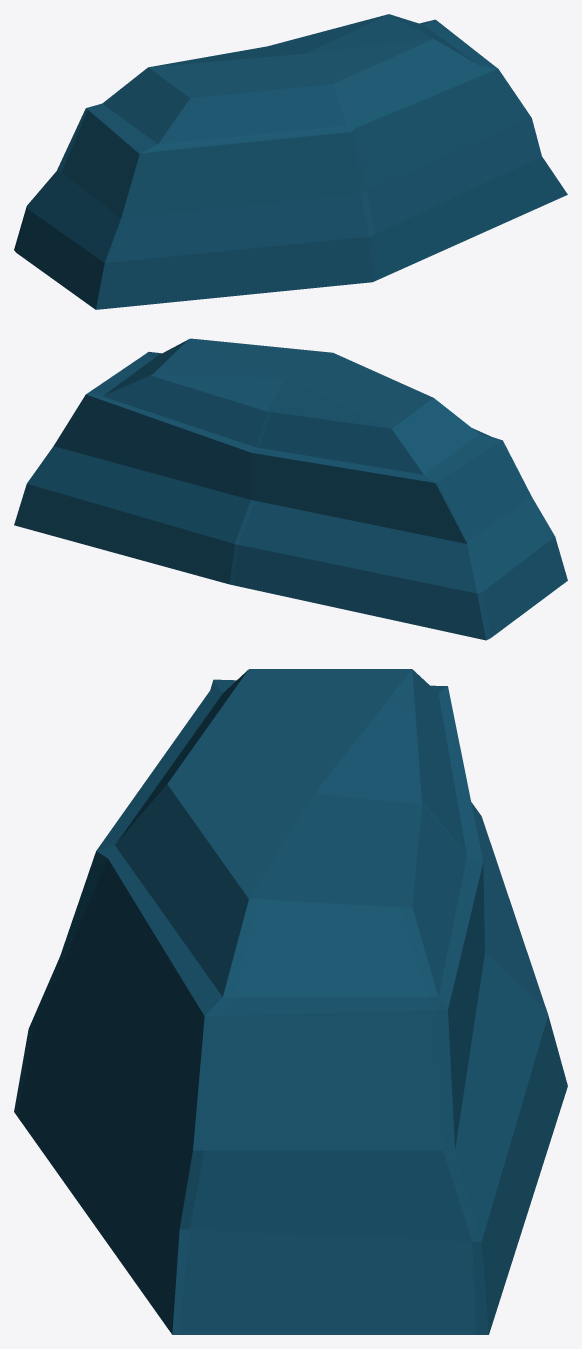
File: big rock.fbx
The picture shows the model from 3 angles, top to bottom: view 1: azimuth 30°, elevation 25°; view 2: azimuth 150°, elevation 25°; view 3: azimuth 270°, elevation 25°; orthographic projection. The views are drawn at different scales.
Visible parts, largest first — view 1: Cylinder006; view 2: Cylinder006; view 3: Cylinder006.
Boxes of the visible parts, x1,y1,x2,y2 form: Cylinder006: (14, 14, 567, 309); Cylinder006: (14, 338, 567, 640); Cylinder006: (14, 669, 567, 1334).
Size of the model in its own units: 23.72 by 8.11 by 12.42.
1 material, 1 textured.
